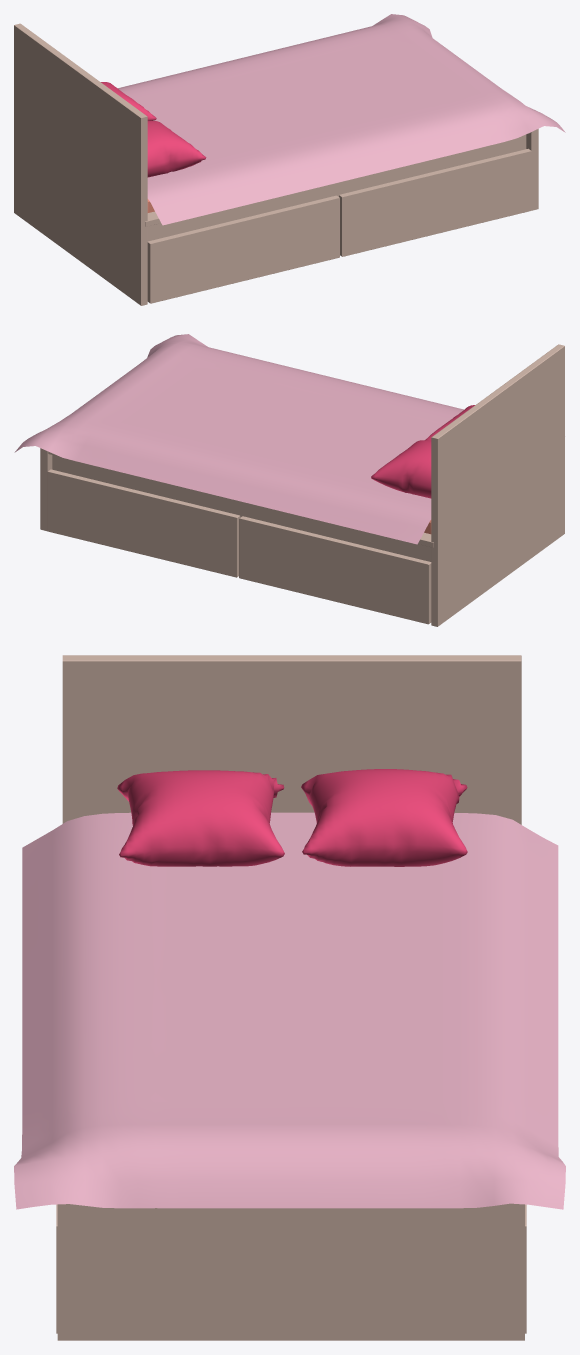
The model's file is bed_mine.fbx.
3 views of the same model, one above another, from view 1: azimuth 30°, elevation 25°; view 2: azimuth 150°, elevation 25°; view 3: azimuth 270°, elevation 25° (orthographic). The views are drawn at different scales.
Parts seen in each view (by area): view 1: BedFrame, BedSheet, Pillow.001; view 2: BedFrame, BedSheet, Pillow; view 3: BedSheet, BedFrame, Pillow, Pillow.001.
Boxes of the visible parts, x1,y1,x2,y2 form: BedFrame: (14,23,538,305); BedSheet: (118,14,565,225); Pillow.001: (147,121,206,177); BedFrame: (40,344,564,626); BedSheet: (14,334,463,544); Pillow: (371,440,431,498); BedSheet: (14,812,565,1209); BedFrame: (56,655,526,1340); Pillow: (301,769,467,866); Pillow.001: (117,770,284,866).
Bounding box in the file's own units: 1398 × 608 × 896.
